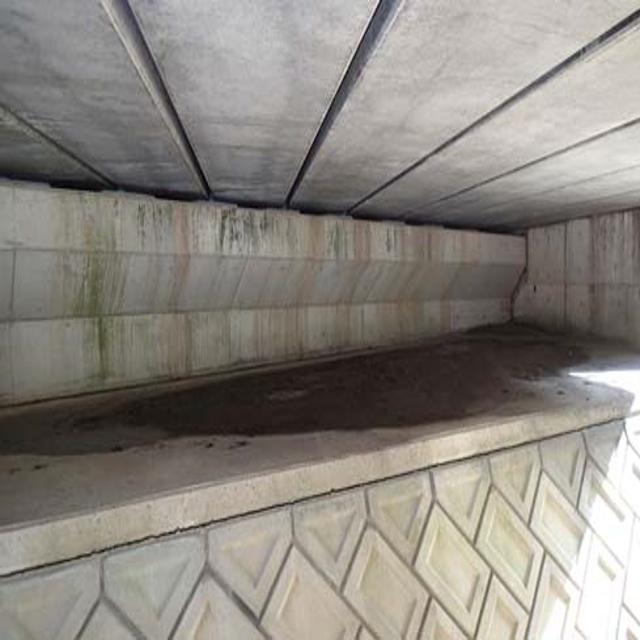leakage: (41, 313, 612, 464)
